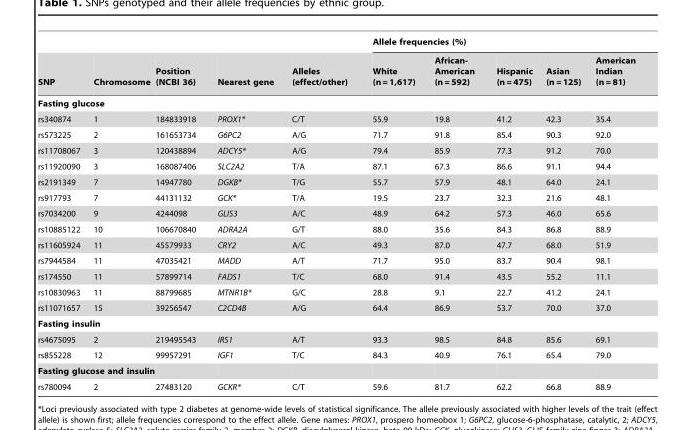table: (37, 37, 635, 390)
table column: (282, 37, 359, 390), (206, 37, 282, 390), (86, 37, 154, 390), (359, 37, 424, 390), (424, 37, 484, 390), (484, 37, 538, 390), (154, 37, 206, 390), (37, 37, 86, 390), (538, 37, 587, 390), (587, 37, 635, 390)
table column header: (37, 37, 635, 92)
table projected row header: (37, 92, 635, 111), (37, 315, 635, 331), (37, 362, 635, 378)
table row: (37, 50, 635, 92), (37, 92, 635, 111), (37, 126, 635, 142), (37, 142, 635, 158), (37, 158, 635, 174), (37, 189, 635, 205), (37, 205, 635, 221), (37, 221, 635, 237), (37, 252, 635, 268), (37, 268, 635, 284), (37, 299, 635, 315), (37, 315, 635, 331), (37, 331, 635, 347), (37, 362, 635, 378), (37, 111, 635, 126), (37, 174, 635, 189), (37, 237, 635, 252), (37, 284, 635, 299), (37, 347, 635, 362), (37, 37, 635, 50), (37, 378, 635, 390)
table spanning cell: (282, 37, 359, 92), (206, 37, 282, 92), (86, 37, 154, 92), (359, 37, 635, 50), (154, 37, 206, 92), (37, 37, 86, 92)
